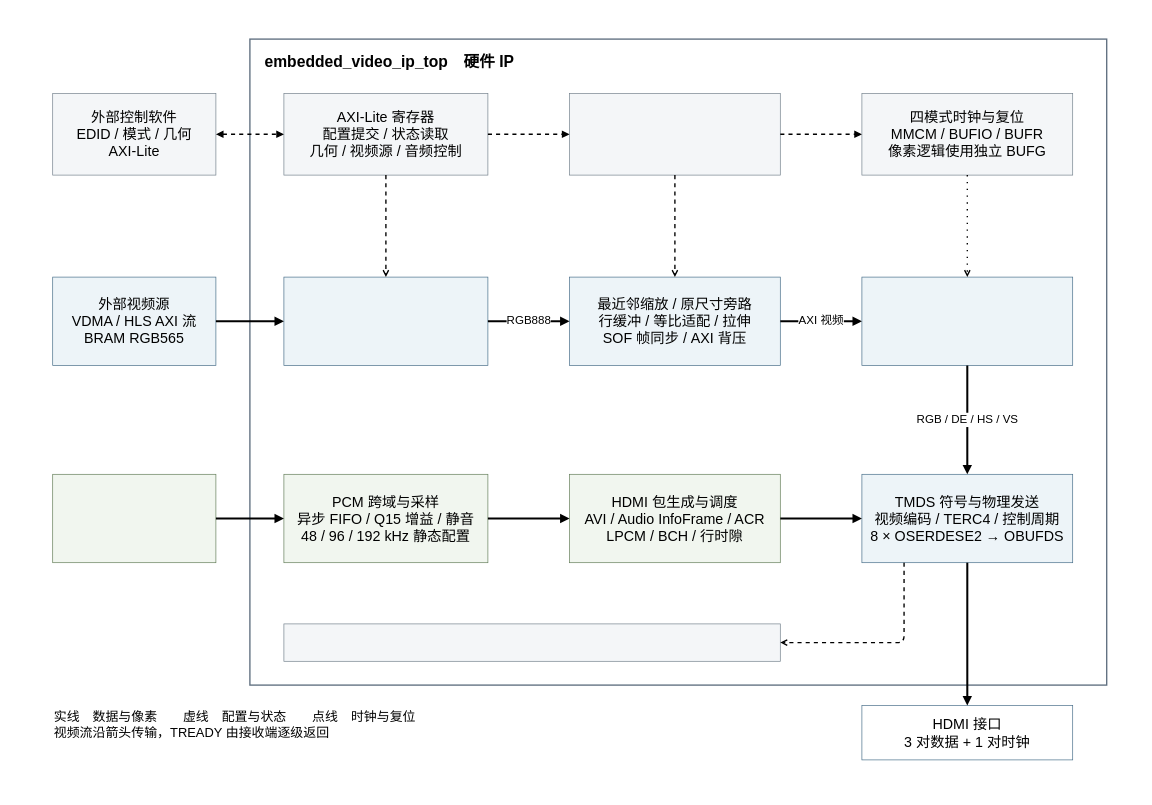
Image size: 1152x805. Some labels were removed from this diagram. The box of each missing label's shape, as (x1, y1, x2, y2) in pixels:
AXI 视频 → 并行像素 两拍缓冲 / v_axi4s_vid_out 四模式时序发生器: (861, 276, 1073, 366)
外部 PCM 源 48-bit AXI 流 双声道 24-bit: (52, 474, 216, 563)
模式事务与恢复 hdmi_mode_transition_ctrl 帧边界 / 配置确认 / 锁定: (569, 93, 780, 175)
状态回读 帧计数 / sticky 错误 / 音频事件 / 时钟锁定 / VSYNC 遥测: (283, 623, 780, 661)
视频源选择与适配 BRAM 读取 / 三路选择 像素格式转换为 RGB888: (283, 276, 488, 366)
